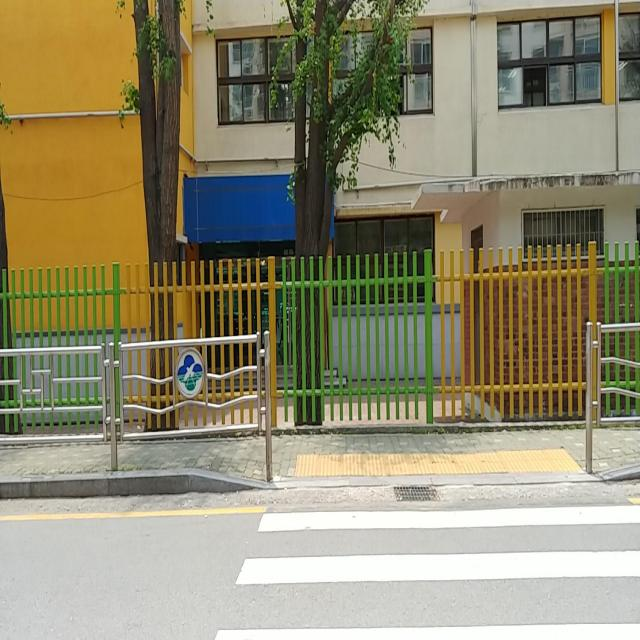횡단보도: (212, 500, 640, 640)
